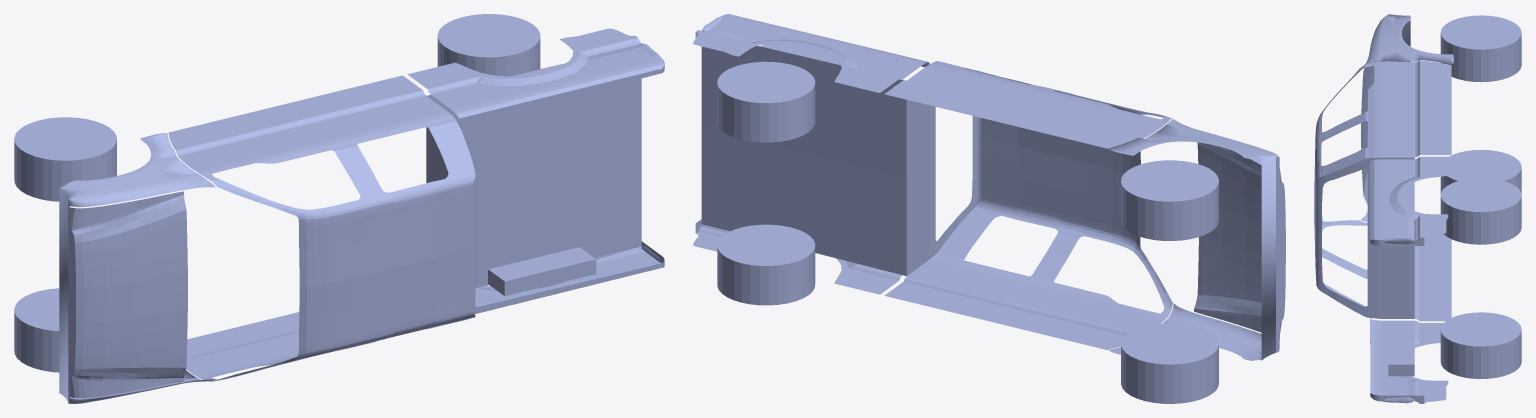
Rendered from baseStation.gltf.
3 renders of one model, left to right at view 1: azimuth 30°, elevation 25°; view 2: azimuth 150°, elevation 25°; view 3: azimuth 270°, elevation 25°, orthographic. The views are drawn at different scales.
Visible parts, largest first — view 1: rightSide, leftSide, frontSide; view 2: leftSide, rightSide, frontSide; view 3: rightSide, leftSide, frontSide.
Boxes of the visible parts, bbox=[...] form: rightSide: bbox=[14, 14, 664, 287]; leftSide: bbox=[14, 63, 664, 381]; frontSide: bbox=[59, 133, 215, 403]; leftSide: bbox=[693, 43, 1218, 403]; rightSide: bbox=[693, 14, 1218, 240]; frontSide: bbox=[1109, 119, 1285, 360]; rightSide: bbox=[1314, 15, 1521, 245]; leftSide: bbox=[1314, 149, 1521, 403]; frontSide: bbox=[1360, 14, 1453, 221].
Bounding box in the file's own units: 592 × 203 × 229.
